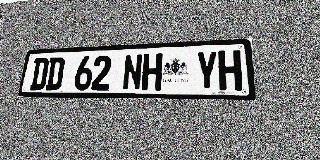2: (91, 55, 112, 90)
6: (74, 56, 94, 90)
D: (29, 58, 50, 90), (45, 57, 65, 90)
H: (218, 50, 242, 90), (141, 53, 163, 90)
N: (122, 54, 143, 90)
Y: (196, 51, 218, 90)
